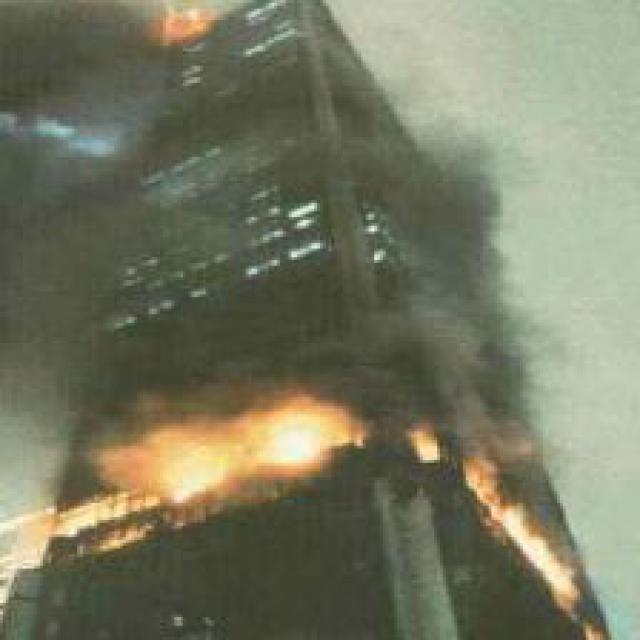fire: (409, 392, 600, 612), (103, 377, 380, 503)
